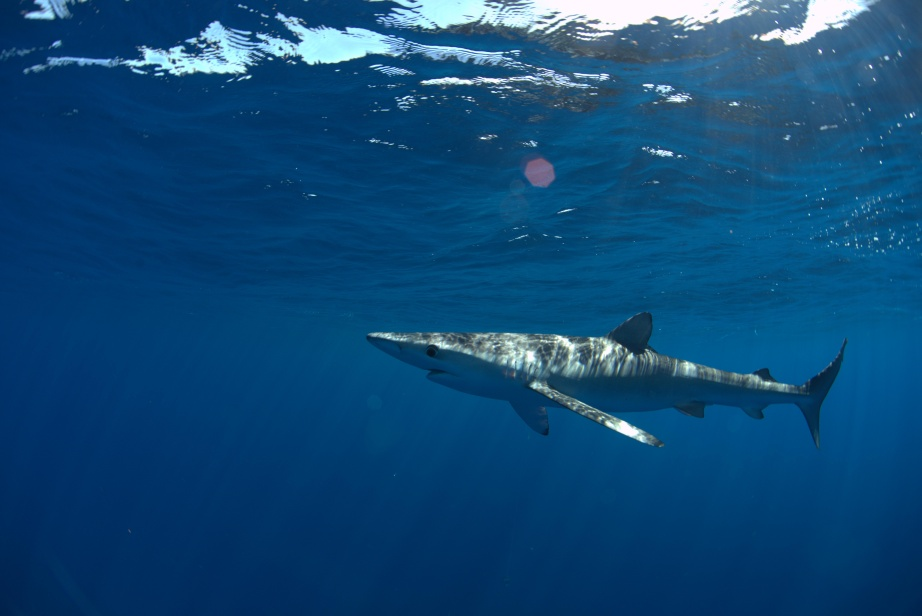Azul: (303, 242, 869, 501)
